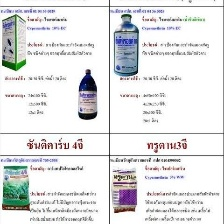carton: (0, 12, 28, 72)
insecticide: (111, 12, 140, 78), (109, 164, 140, 217), (0, 163, 31, 215), (73, 65, 99, 120)
